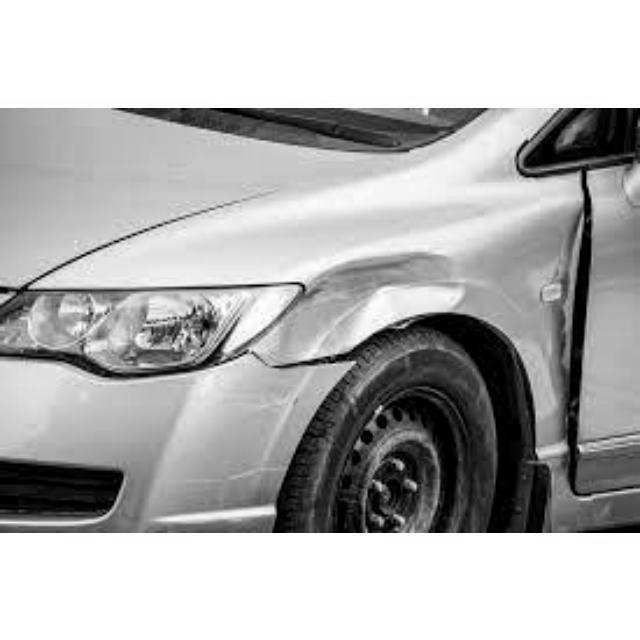doorouter-dent: (543, 166, 605, 517)
fender-dent: (261, 244, 461, 374)
